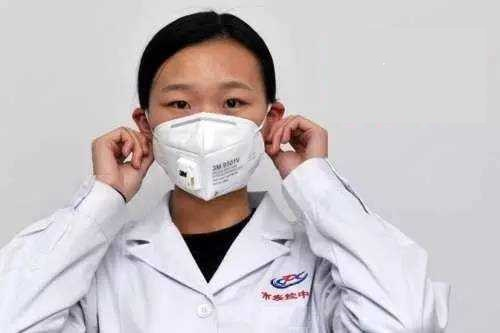face_mask: (148, 45, 264, 200)
